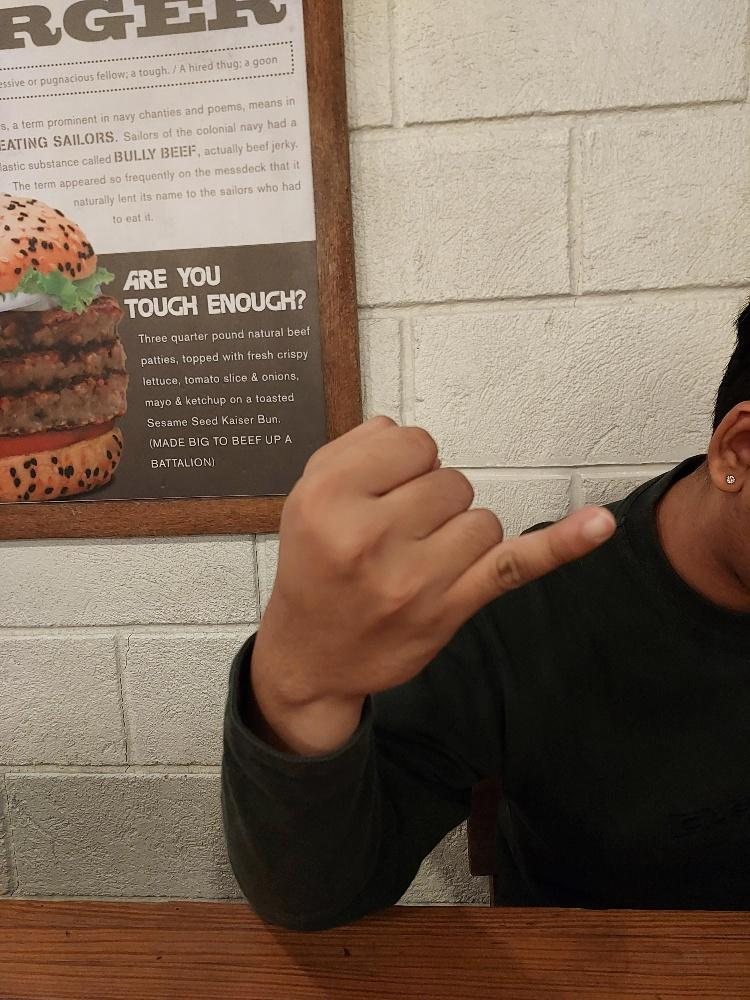j: (259, 411, 618, 706)
